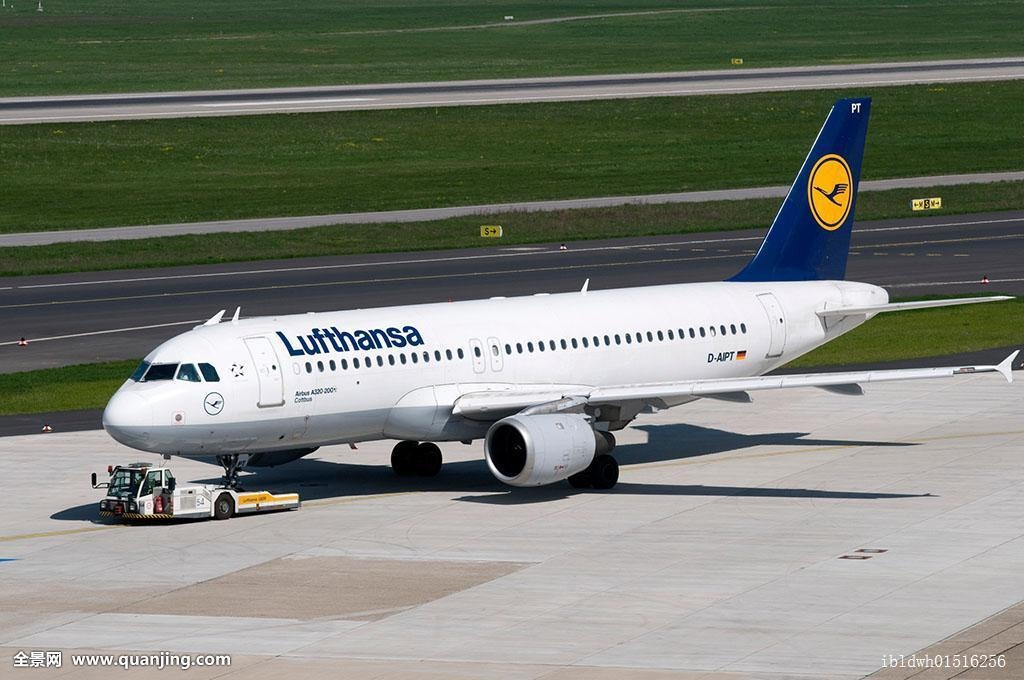airplane: (97, 98, 913, 513)
